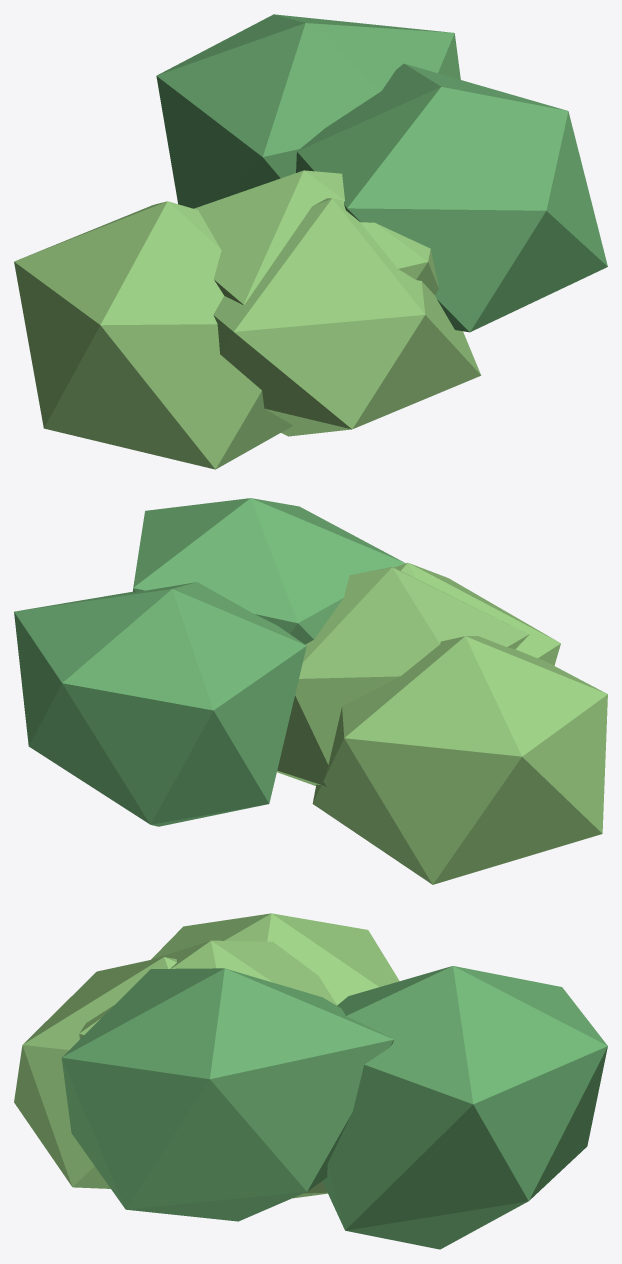
The model's file is Foliage_Bush.fbx.
The picture shows the model from 3 angles, top to bottom: view 1: azimuth 30°, elevation 25°; view 2: azimuth 150°, elevation 25°; view 3: azimuth 270°, elevation 25°; orthographic projection. The views are drawn at different scales.
Parts seen in each view (by area): view 1: Foliage_Bush; view 2: Foliage_Bush; view 3: Foliage_Bush.
Boxes of the visible parts, x1,y1,x2,y2 form: Foliage_Bush: (14, 14, 607, 469); Foliage_Bush: (14, 498, 607, 884); Foliage_Bush: (14, 913, 607, 1249).
Bounding box in the file's own units: 1.92 × 1.12 × 1.83.
